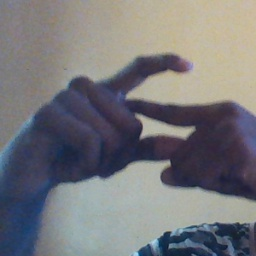E: (103, 49, 217, 169)
